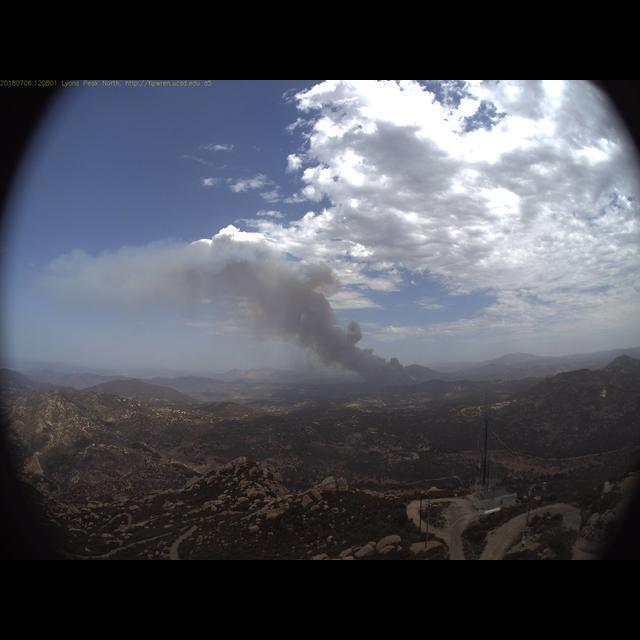Smoke: (49, 231, 451, 399)
